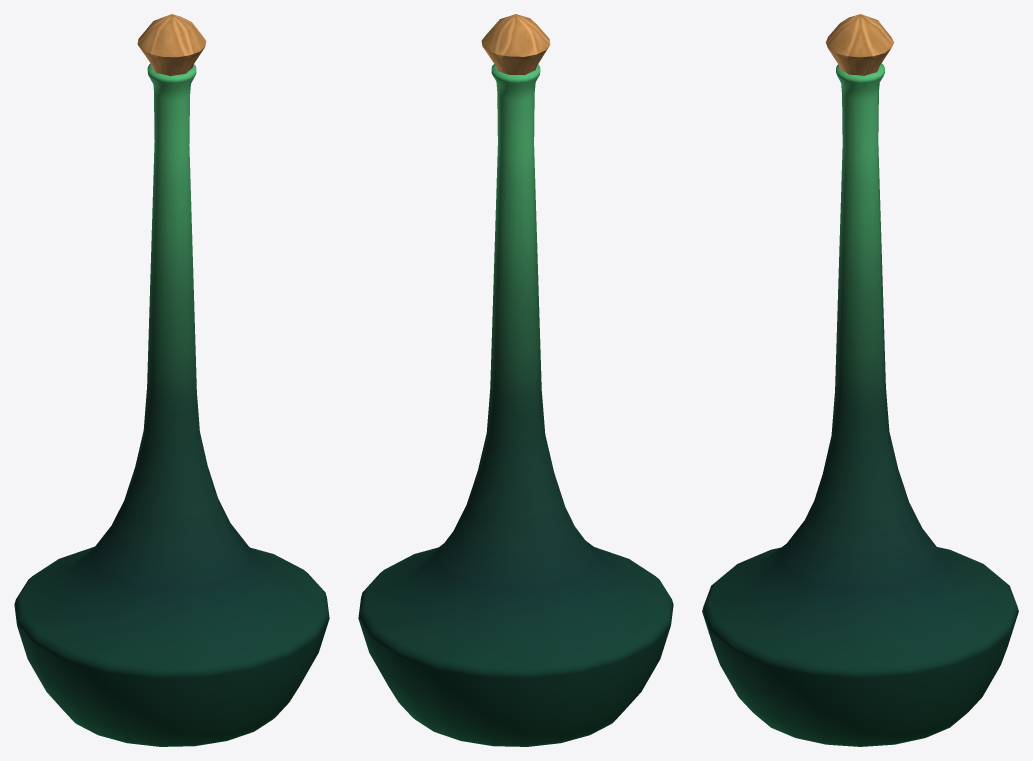
The model's file is SM_Potion_Props_Bottle_Big_04_A.fbx.
The picture shows the model from 3 angles, left to right: view 1: azimuth 30°, elevation 25°; view 2: azimuth 150°, elevation 25°; view 3: azimuth 270°, elevation 25°; orthographic projection.
Visible parts, largest first — view 1: SM_Potion_Props_Bottle_Big_04_A_LOD0; view 2: SM_Potion_Props_Bottle_Big_04_A_LOD0; view 3: SM_Potion_Props_Bottle_Big_04_A_LOD0.
Boxes of the visible parts, x1,y1,x2,y2 form: SM_Potion_Props_Bottle_Big_04_A_LOD0: [14, 14, 329, 746]; SM_Potion_Props_Bottle_Big_04_A_LOD0: [358, 14, 673, 746]; SM_Potion_Props_Bottle_Big_04_A_LOD0: [702, 14, 1018, 746].
Size of what is drawn, in the model's own units: 24.27 by 58.1 by 24.27.
